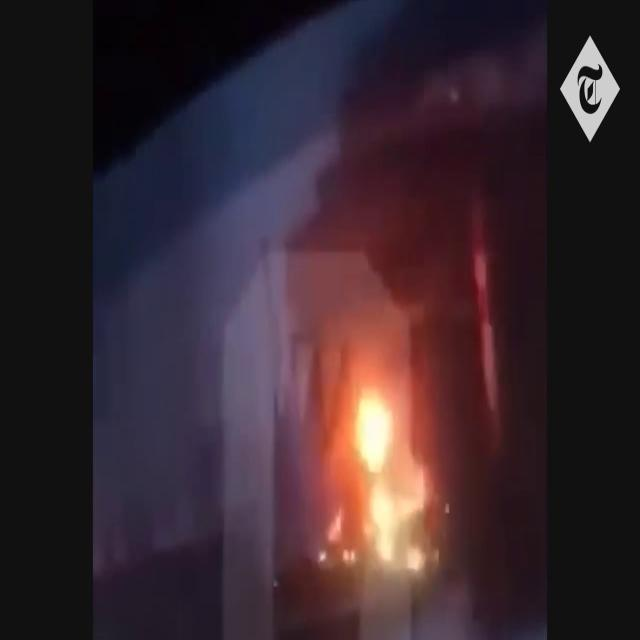Fire: (334, 357, 438, 578)
Smoke: (285, 0, 545, 374)
